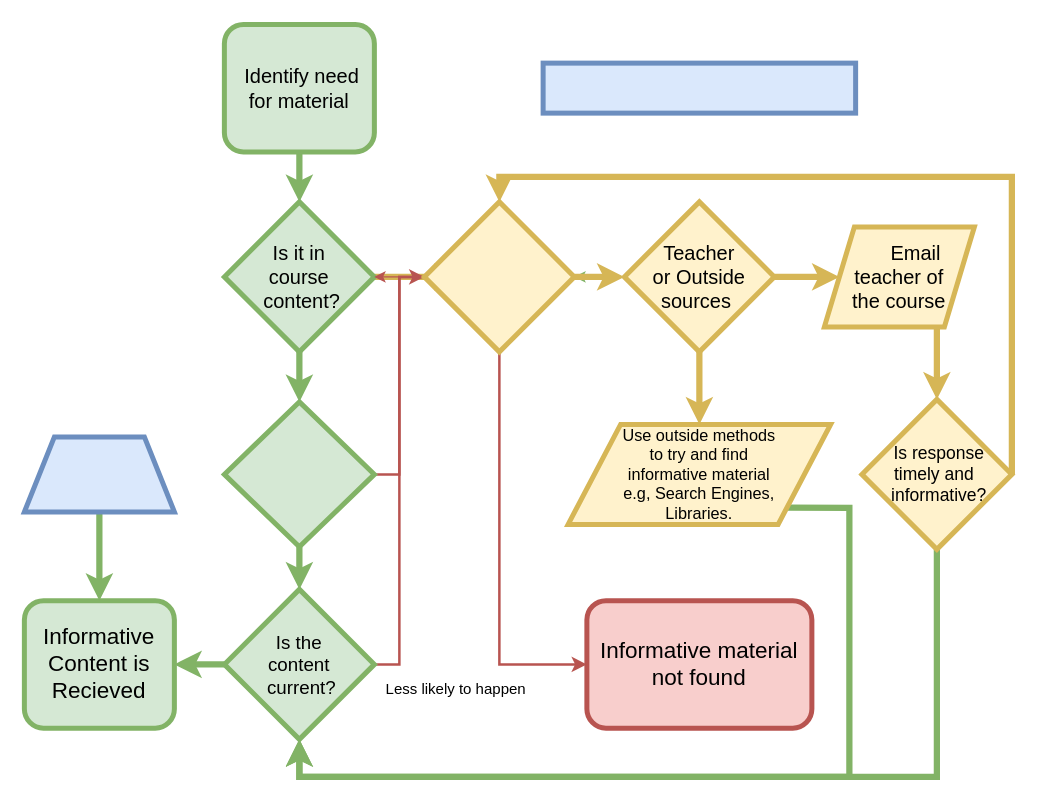
Some shapes in this 1046 by 811 pixel diagram are drawn without their labels. Here are the shapes that lost their labels. From the top down, the centre of each, then its label:
the point at 699,87: Student's perspective
the point at 498,276: Keep trying or give up
the point at 98,474: ROARS
the point at 298,474: Is the material informative?
